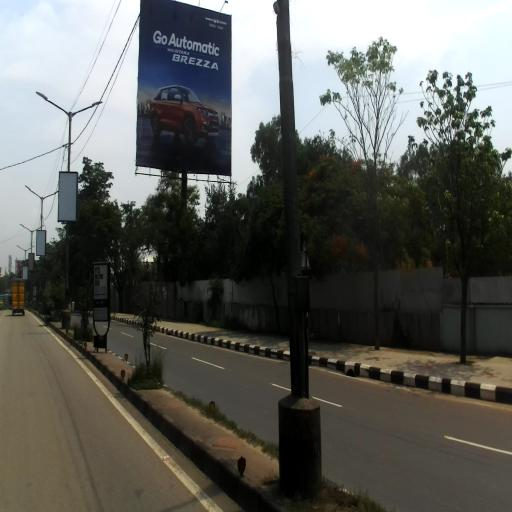street_light_0: (36, 92, 72, 116), (69, 101, 103, 120), (25, 185, 43, 200), (40, 191, 58, 201), (19, 224, 33, 234), (31, 225, 44, 234), (16, 245, 26, 252), (24, 246, 34, 252)
